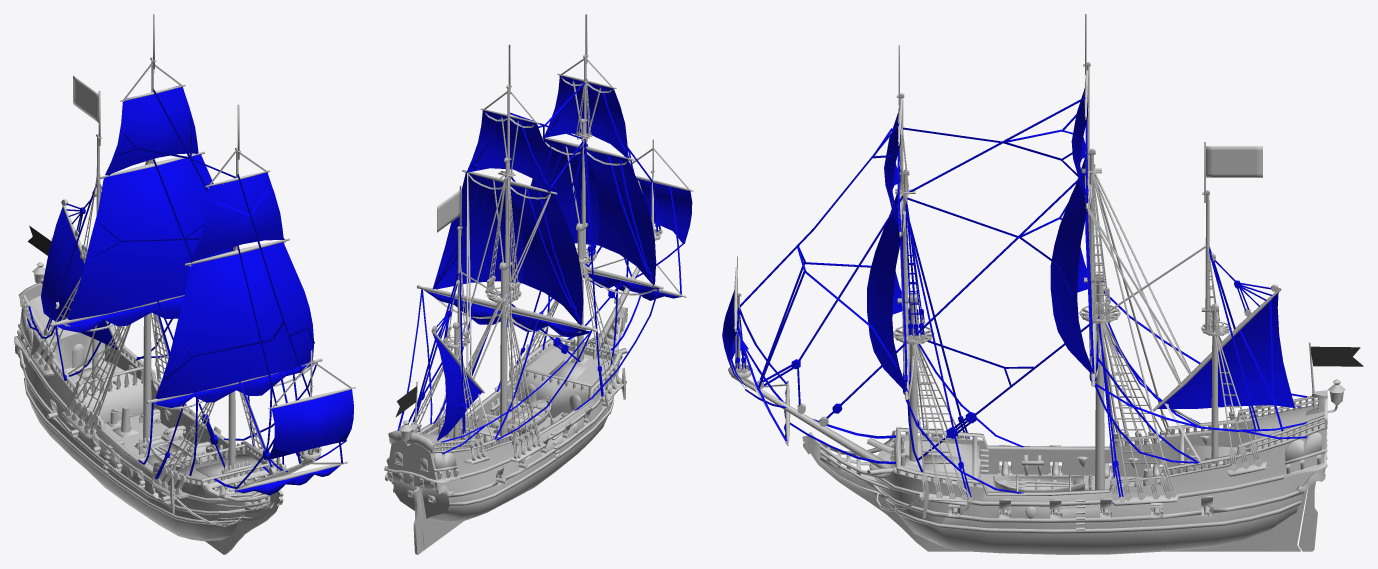
Rendered from frigate.obj.
The picture shows the model from 3 angles, left to right: view 1: azimuth 30°, elevation 25°; view 2: azimuth 150°, elevation 25°; view 3: azimuth 270°, elevation 25°; orthographic projection. The views are drawn at different scales.
Parts seen in each view (by area): view 1: sailsTex, frigateTex, ensign; view 2: frigateTex, sailsTex, ensign; view 3: frigateTex, sailsTex, ensign, flagtex.
Part boxes in pixels (<box>): sailsTex: <box>27,85,353,495</box>; frigateTex: <box>14,14,355,554</box>; ensign: <box>73,75,98,122</box>; frigateTex: <box>384,14,693,554</box>; sailsTex: <box>397,76,692,454</box>; ensign: <box>437,190,460,232</box>; frigateTex: <box>728,14,1345,554</box>; sailsTex: <box>722,88,1307,497</box>; ensign: <box>1206,146,1262,177</box>; flagtex: <box>1310,346,1363,366</box>.
Bounding box in the file's own units: 5.5 × 12.95 × 14.02.
